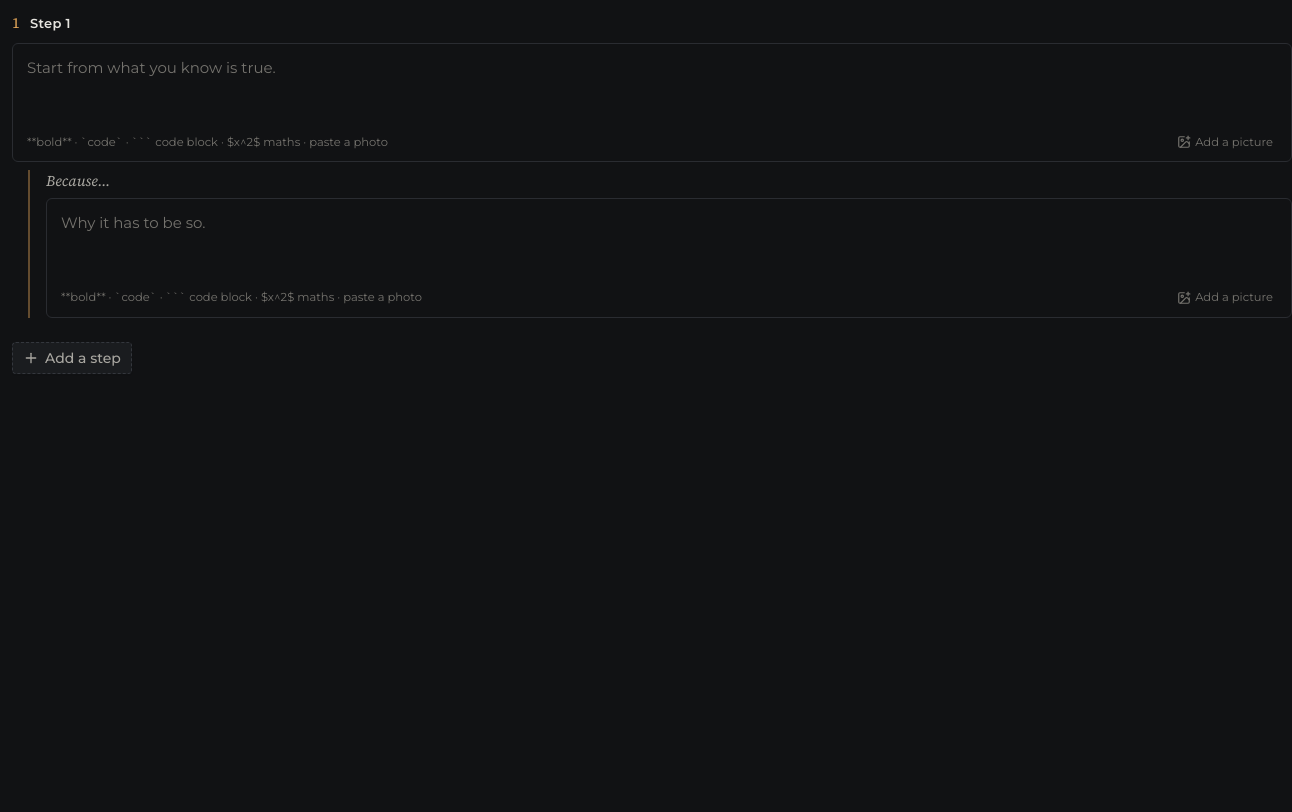
Scenario: TaskFields › gives a derivation a step and its because, and adds steps
Expected: the number of fields is 2, [13,44,1291,132]; [47,199,1291,287]
Click the button "Add a step".
click(72, 358)  # box [12,342,132,374]
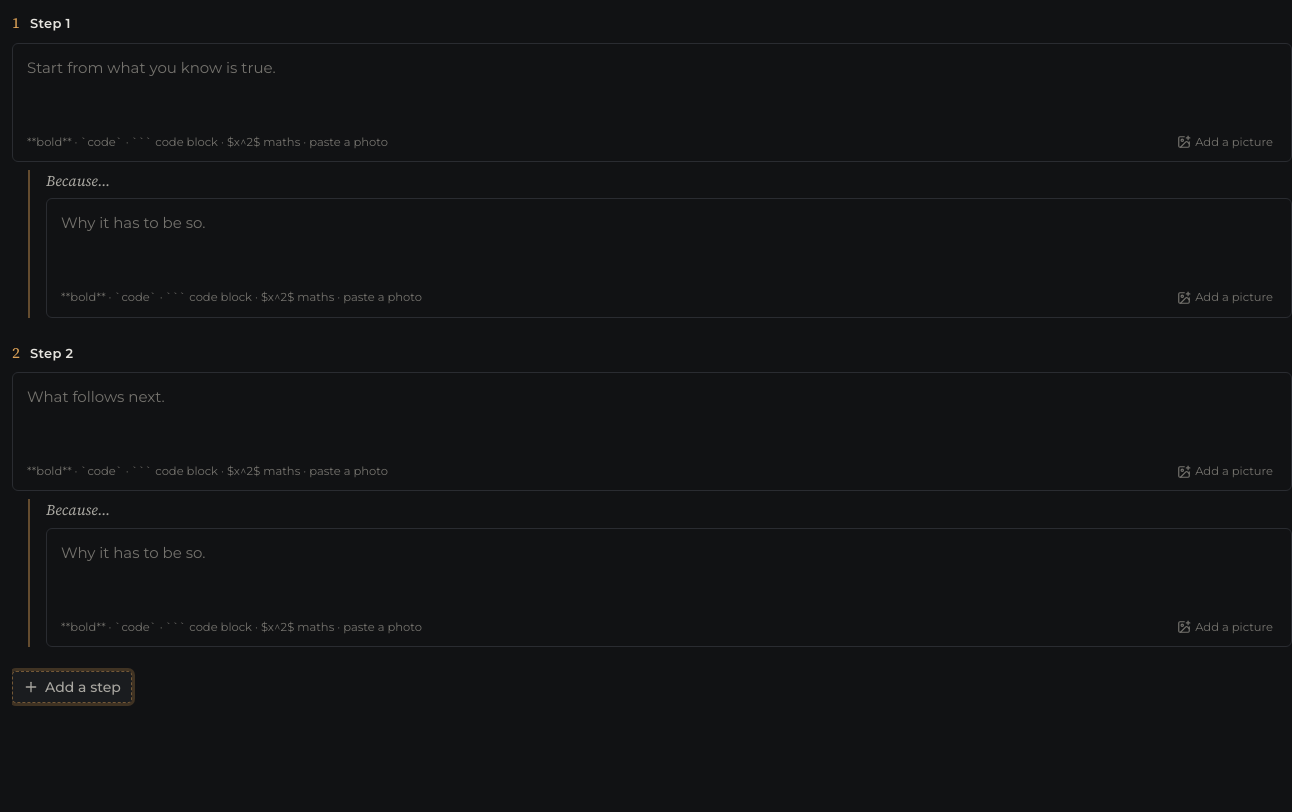
Expected: the field named "Step 2" is shown, [13,373,1291,461]
Expected: the number of fields named "Because…" is 2, [47,199,1291,287]; [47,529,1291,617]
